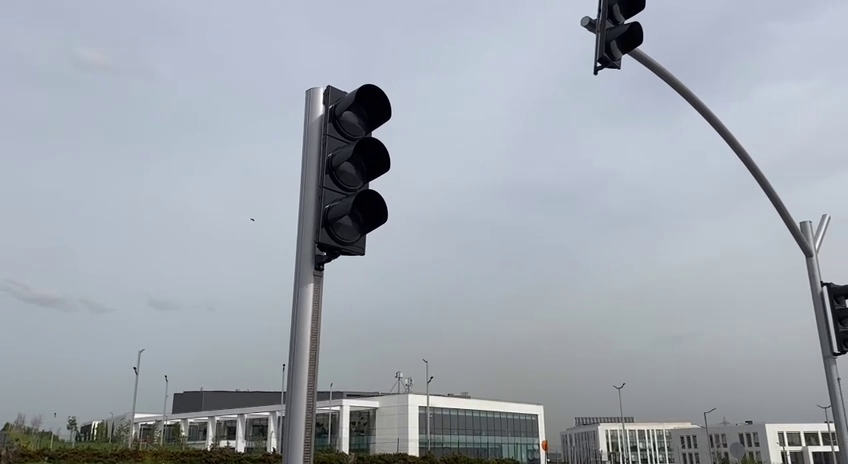trafficLight: (300, 80, 396, 273), (590, 1, 649, 78), (825, 279, 848, 356)
